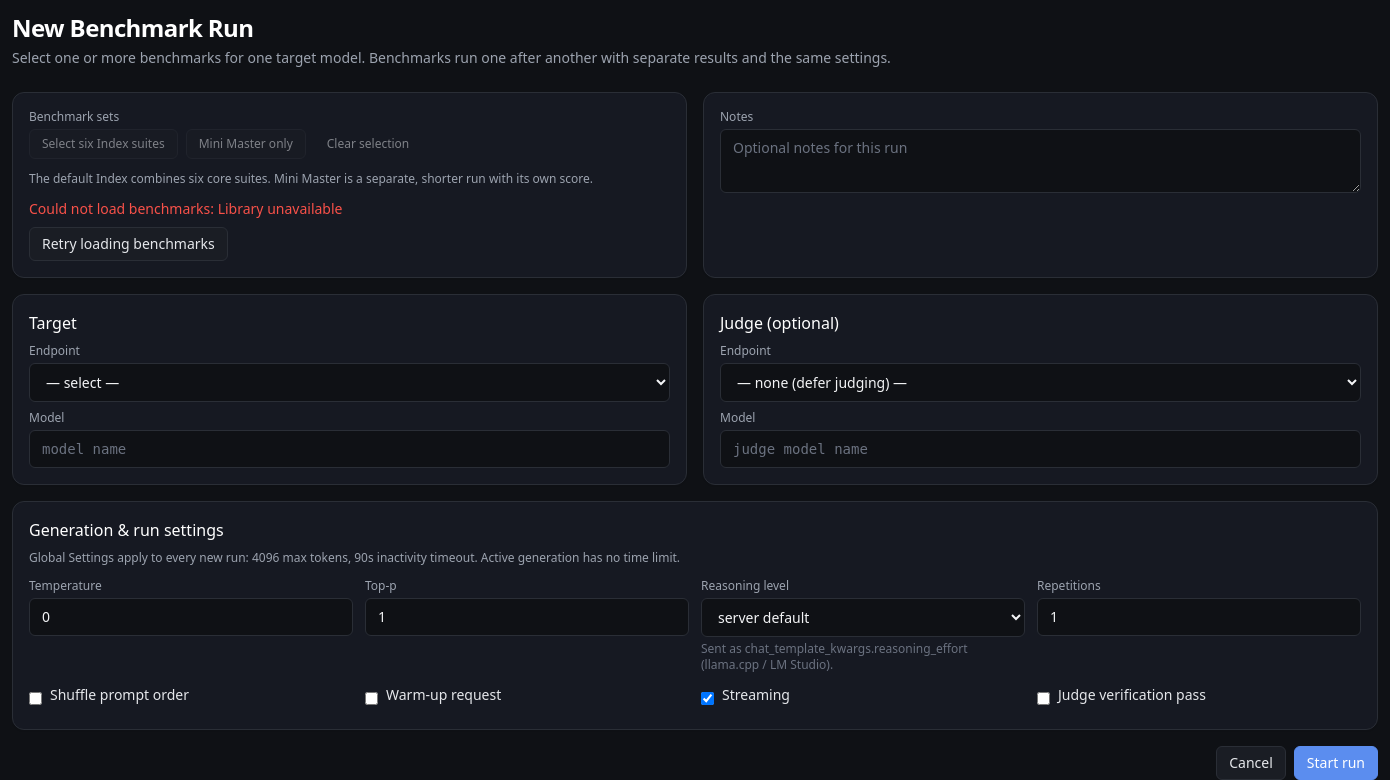
Test: New Run form validation › shows failed benchmark loading with a retry action
Check: the message shows "Library unavailable", box [218,199,342,218]
Click the button "Retry loading benchmarks": coordinates (128, 244) [29,227,228,261]
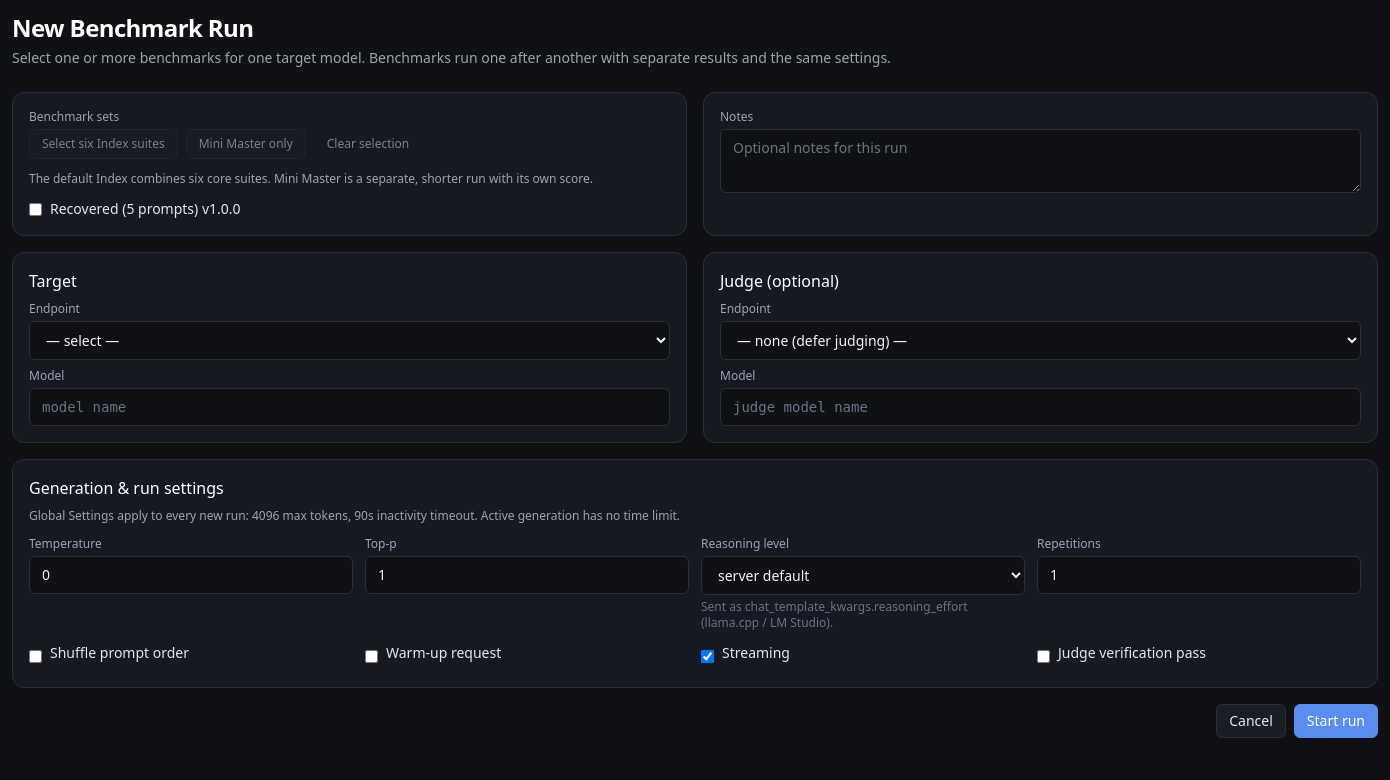
Check: the checkbox labelled "Recovered (5 prompts) v1.0.0" is shown, box [29,203,42,216]
